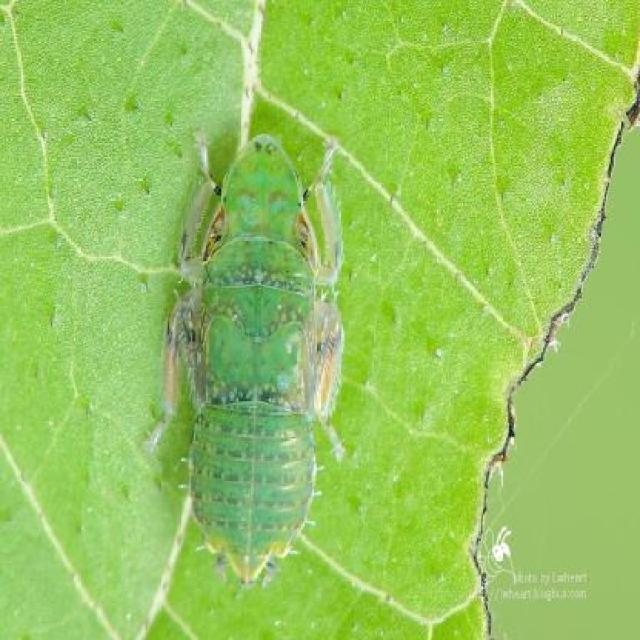green-leafhopper: (160, 130, 346, 578)
